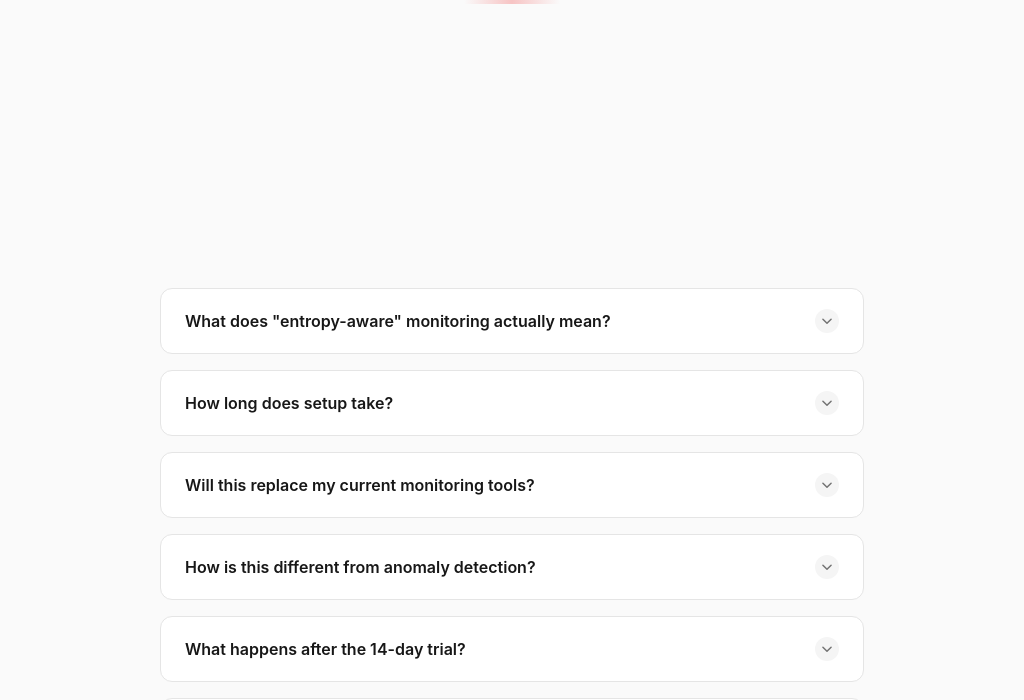
Test case: Improvement: FAQ keyboard accessibility › aria-expanded toggles on click
The width and height of the screenshot is (1024, 700).
Click the button "What does \"entropy-aware\" monitoring actually mean?". click: (512, 321)
box: left=161, top=289, right=863, bottom=353
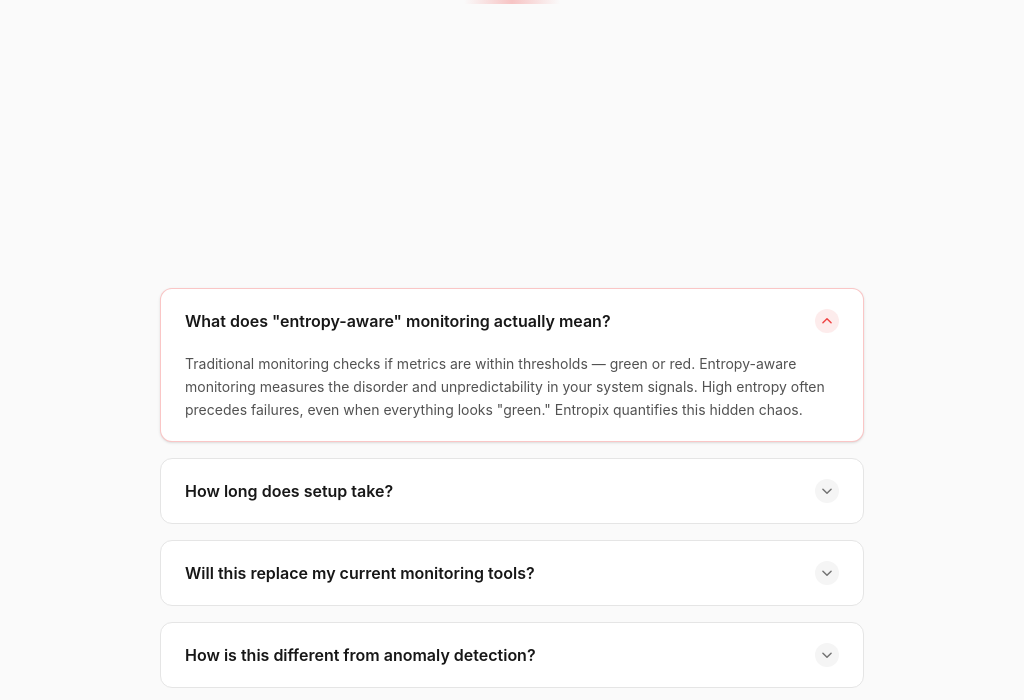
Expected: the button "What does \"entropy-aware\" monitoring actually mean?" is expanded
Click the button "What does \"entropy-aware\" monitoring actually mean?". click: (512, 321)
box: left=161, top=289, right=863, bottom=353
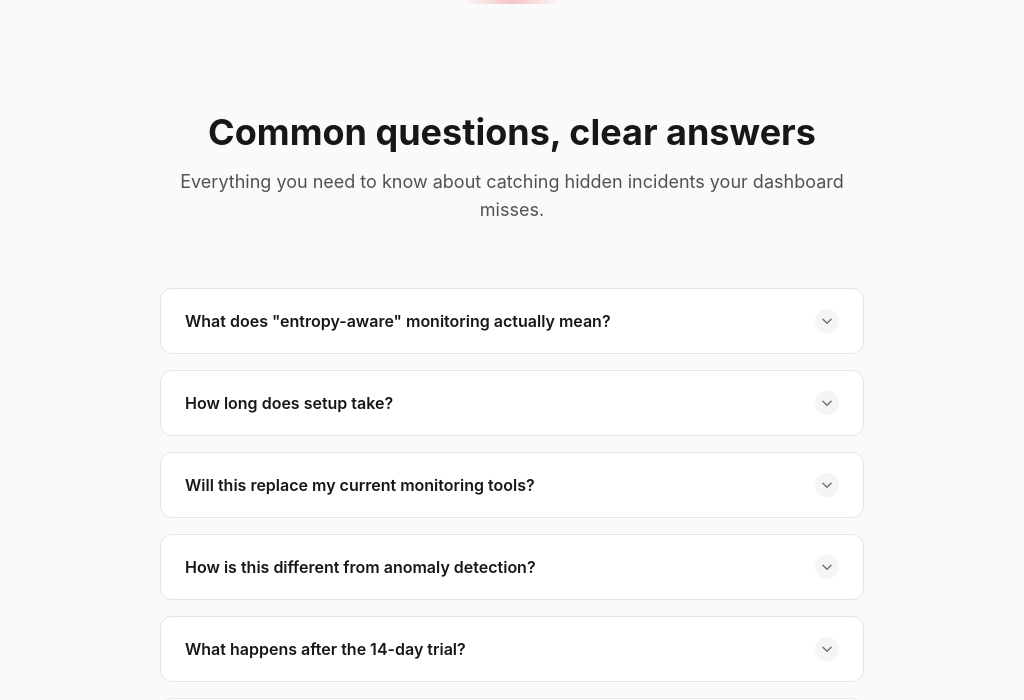
Expected: the button "What does \"entropy-aware\" monitoring actually mean?" is collapsed, left=161, top=289, right=863, bottom=353
